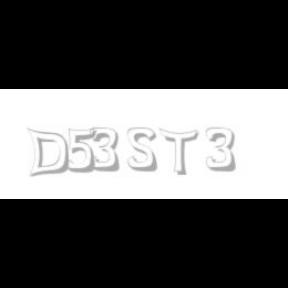3: (89, 128, 120, 172), (207, 128, 238, 172)
5: (66, 128, 96, 174)
D: (26, 128, 70, 178)
S: (128, 128, 158, 172)
T: (158, 128, 198, 176)
